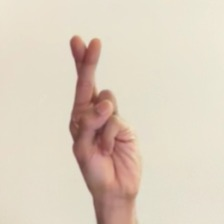R: (41, 17, 157, 209)
